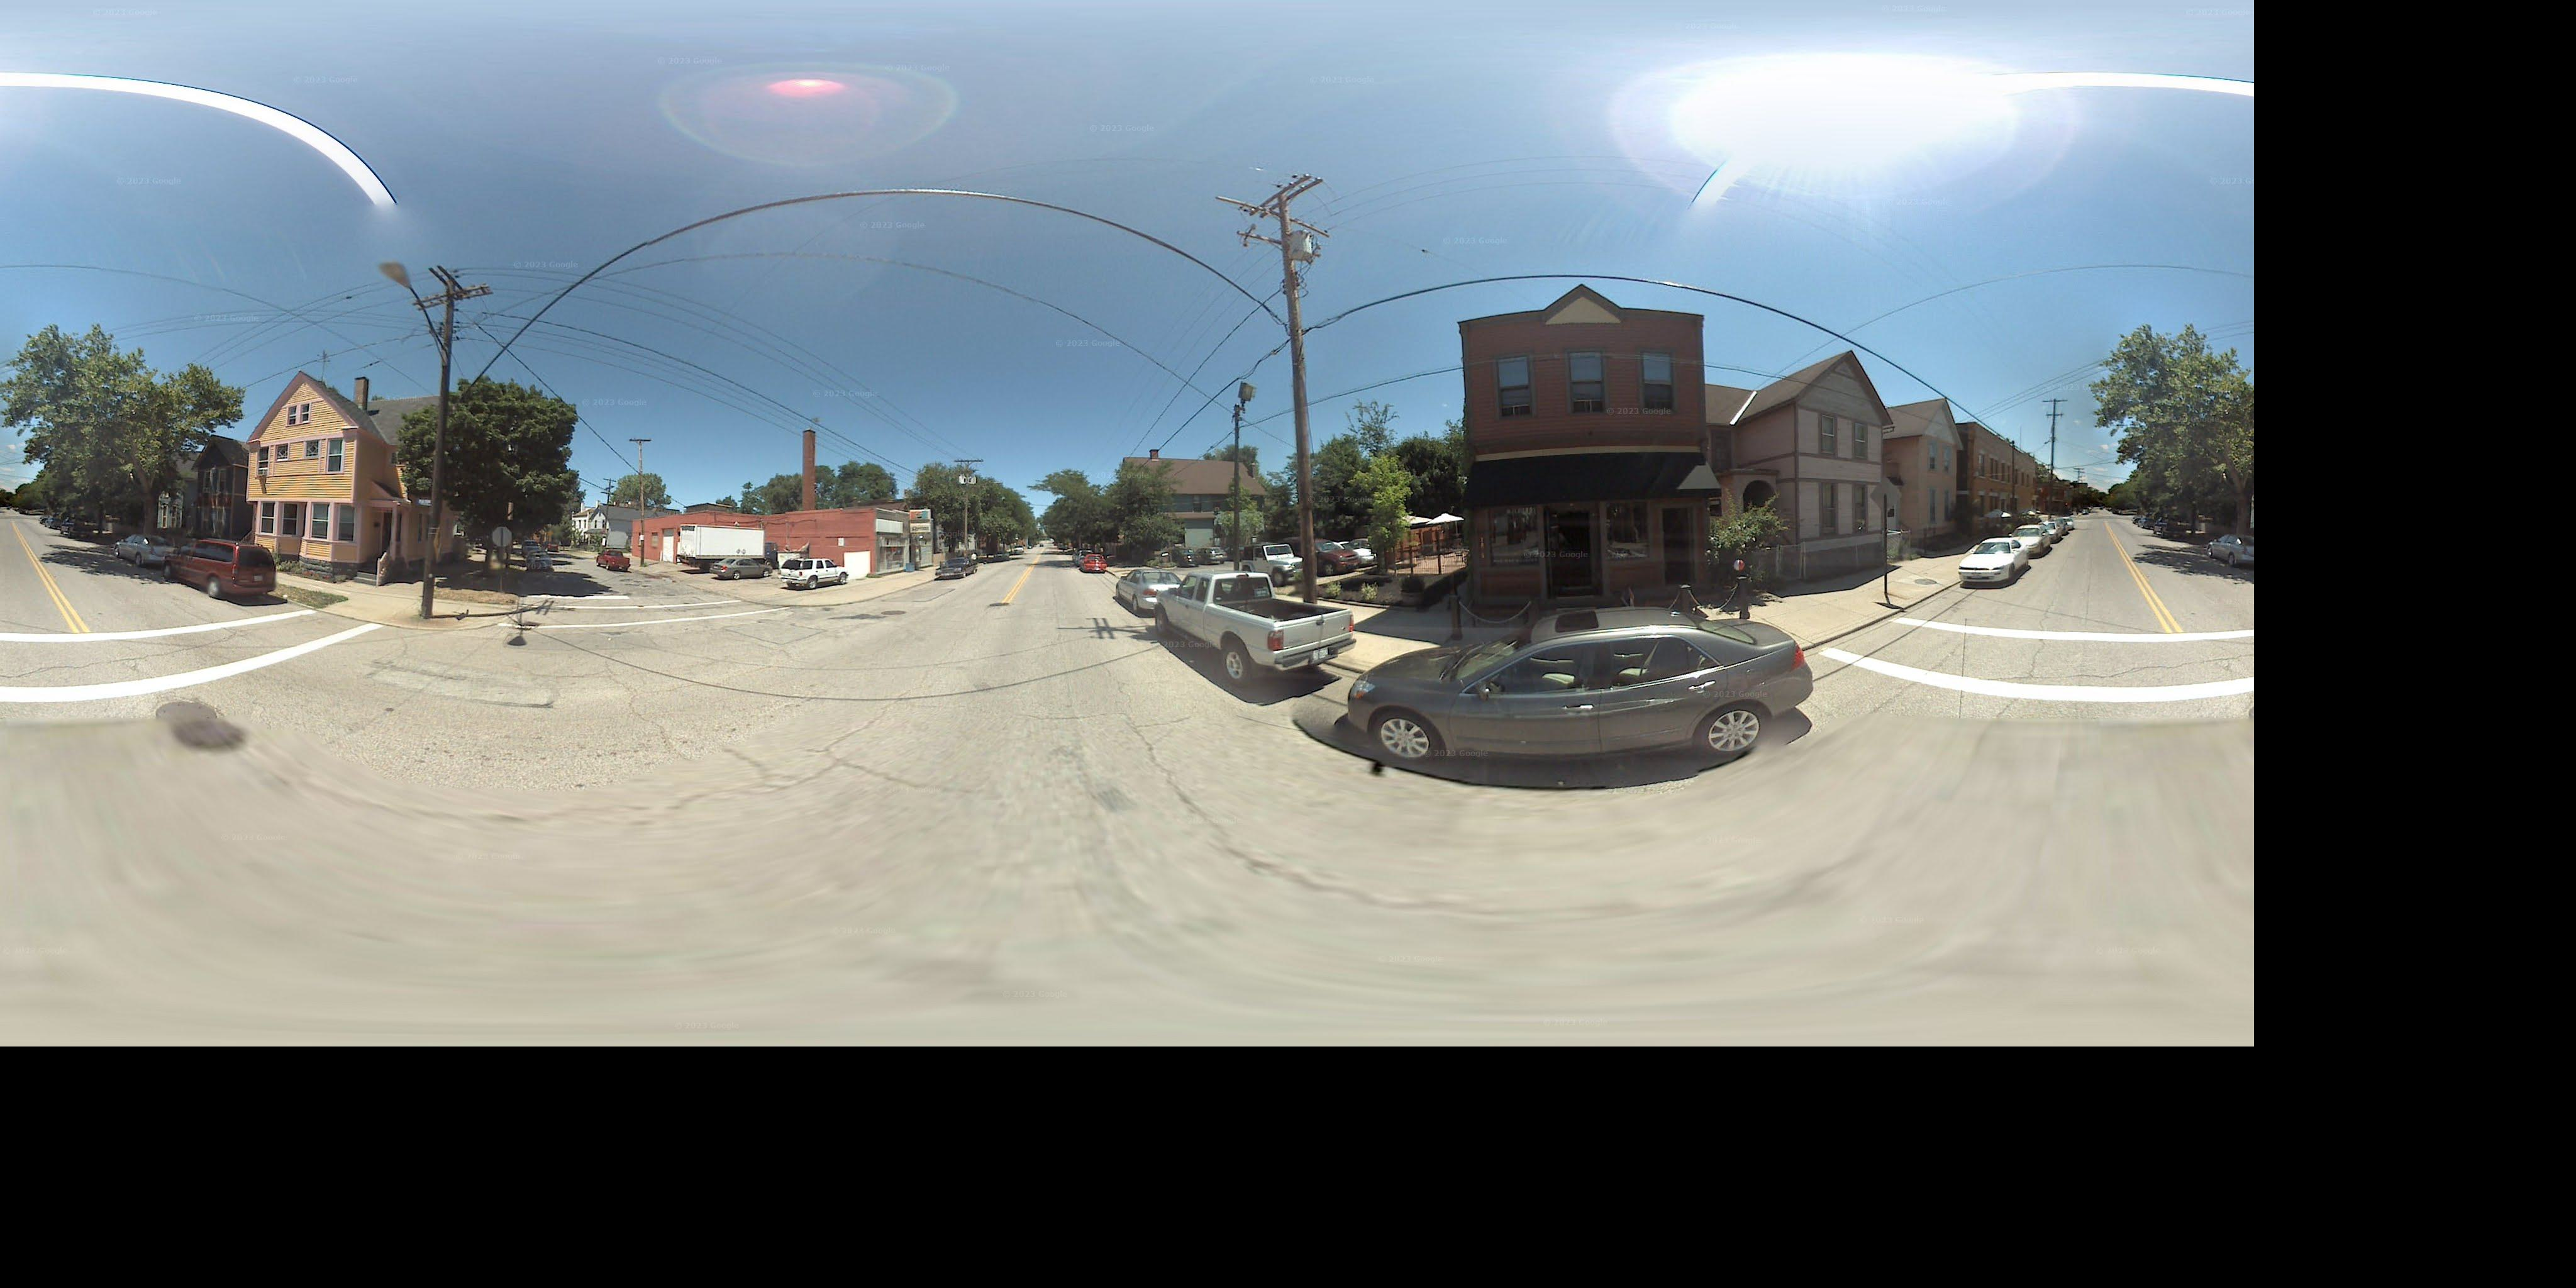Curb Ramp: (468, 593, 524, 631), (733, 588, 793, 623)
Missing Curb Ramp: (1809, 577, 1891, 655), (309, 586, 386, 634)
